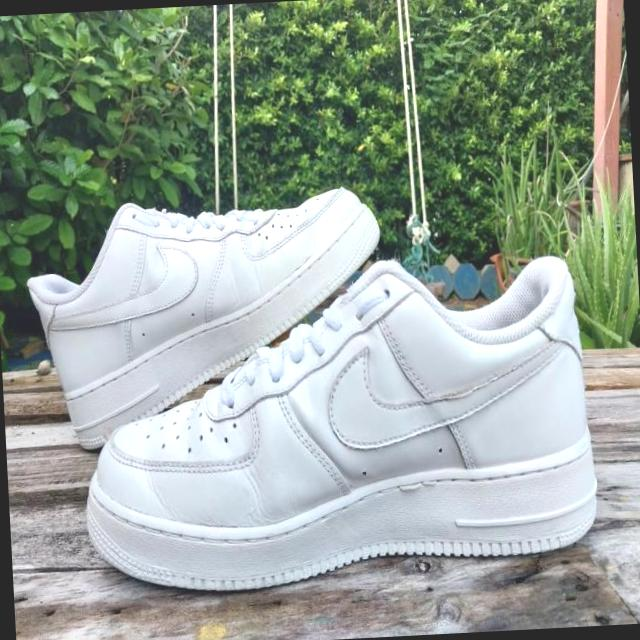nike_original_airforce: (61, 248, 602, 596), (22, 181, 396, 448)
